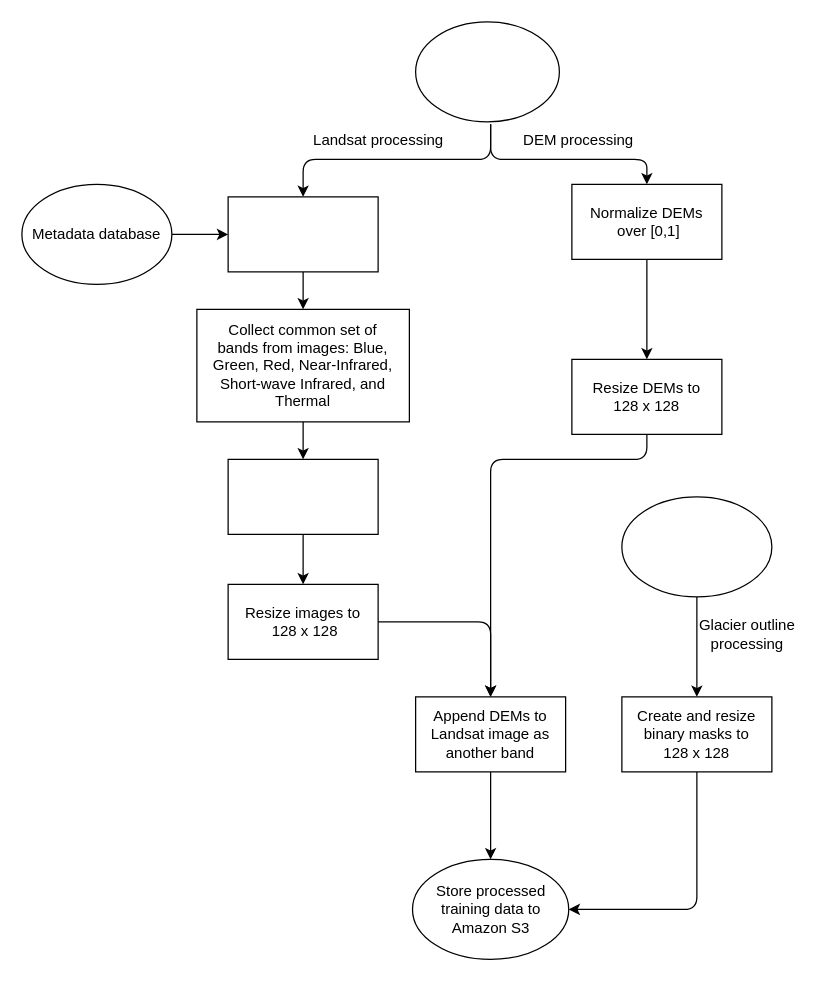
Image size: 831x981. Some labels were removed from this diagram. Each missing label, with the centre of its shape:
"Earth Engine Data" goes at (x=486, y=71).
"GLIMS" goes at (x=696, y=546).
"Image attribute filtering" goes at (x=302, y=234).
"Normalize images over [0,1]" goes at (x=302, y=496).
